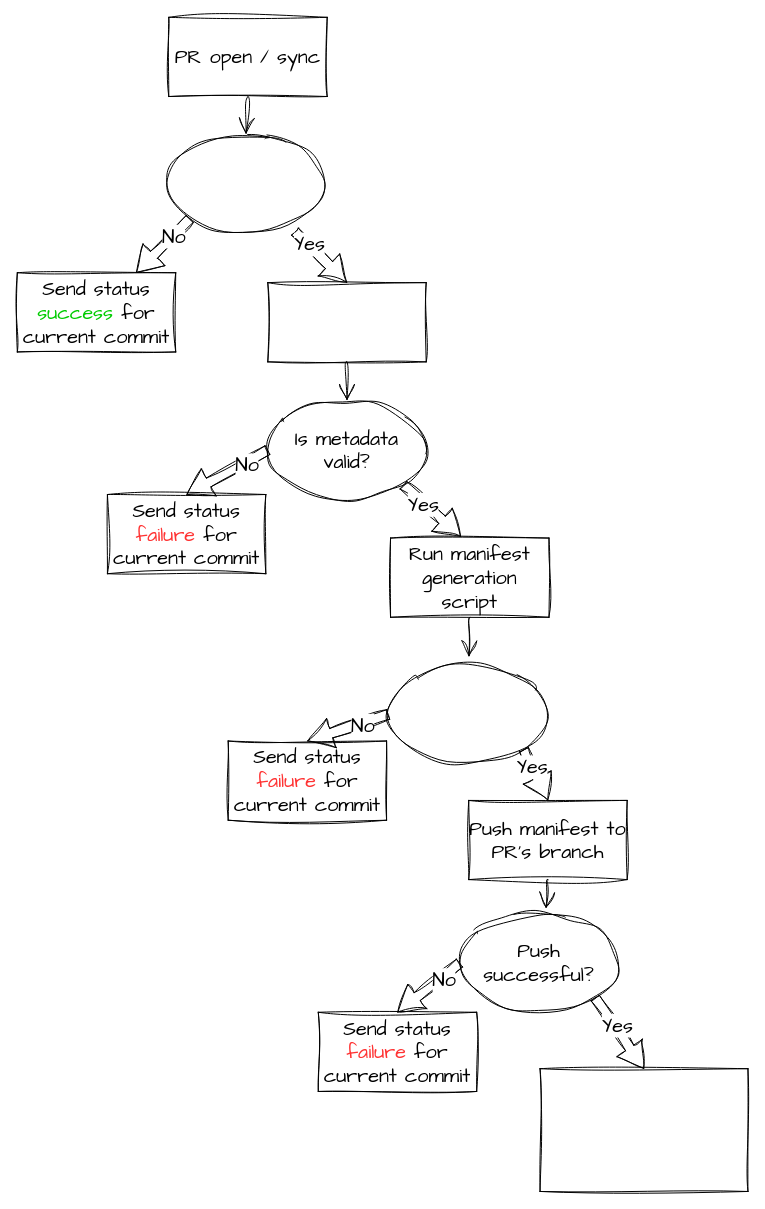
This 765x1209 diagram has some shape labels left out. Here are the shapes that lost their labels. From the top down, the centre of each, then its label:
At pixel 245 183: "Is it under path docs/shipping/ ?".
At pixel 346 322: "Run check for metadata validity".
At pixel 467 714: "Manifest generated?".
At pixel 643 1129: "Send status success for current commit and for push manifest commit".
